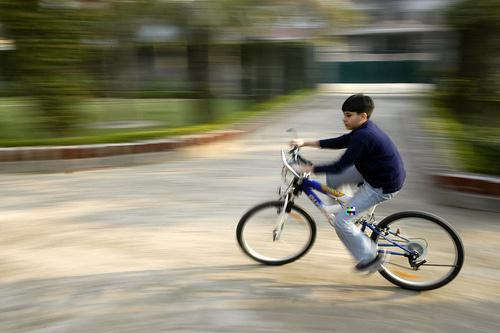car: (238, 131, 465, 291)
person: (292, 94, 404, 271)
